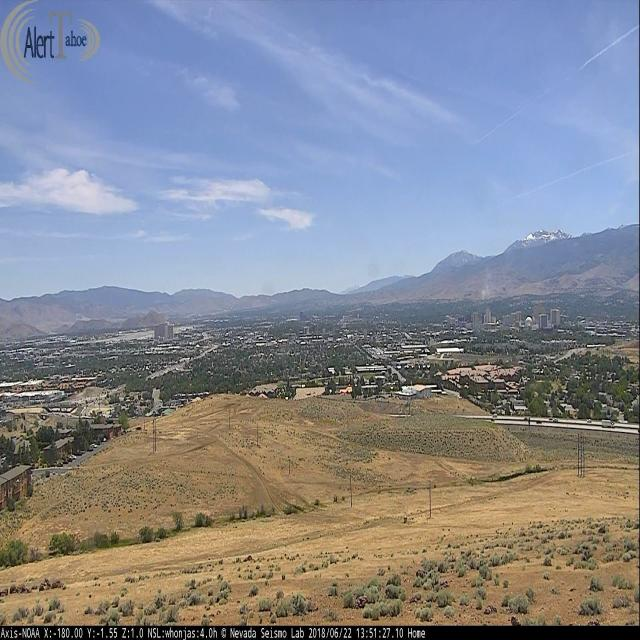smoke: (482, 274, 490, 300)
